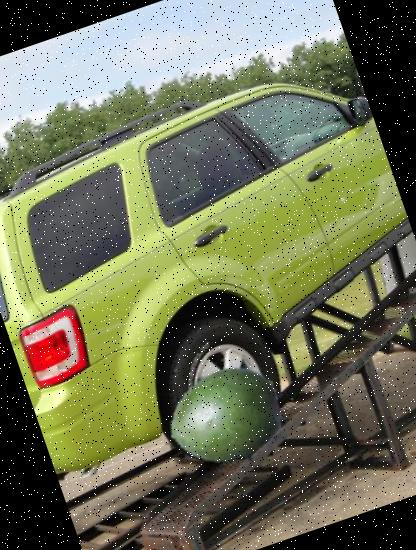Mango: (152, 341, 305, 495)
